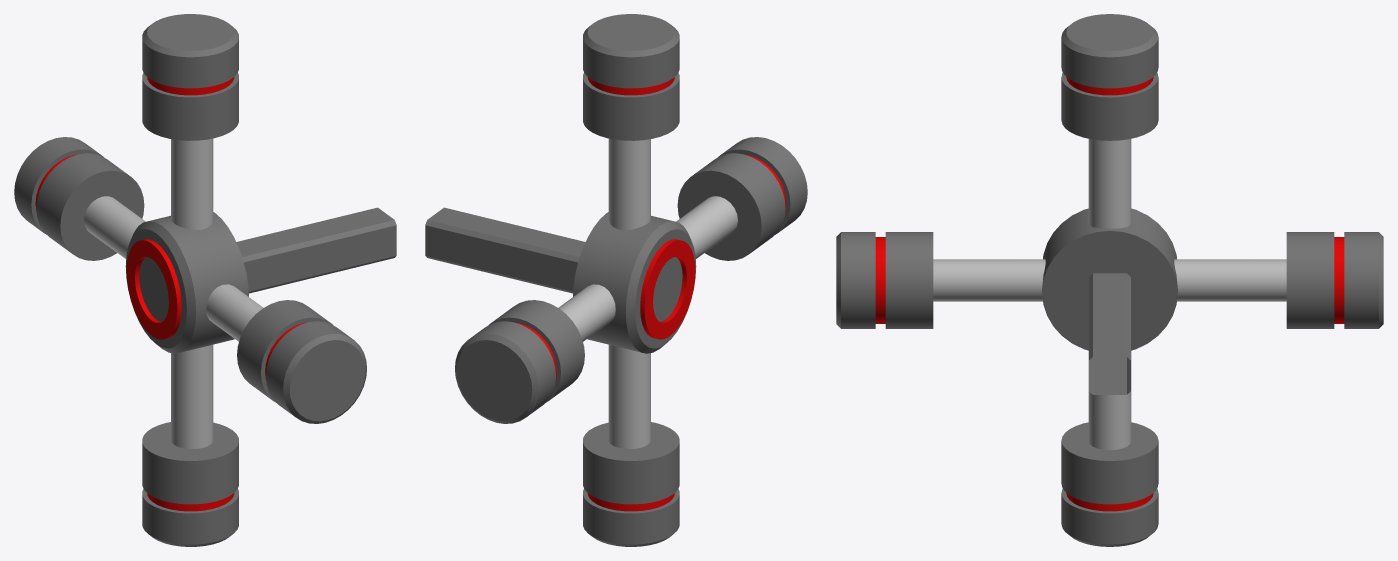
The model's file is Spinner.fbx.
3 renders of one model, left to right at view 1: azimuth 30°, elevation 25°; view 2: azimuth 150°, elevation 25°; view 3: azimuth 270°, elevation 25°, orthographic.
Parts seen in each view (by area): view 1: Spinner; view 2: Spinner; view 3: Spinner.
Part boxes in pixels (<box>): Spinner: <box>14,14,396,546</box>; Spinner: <box>425,14,807,546</box>; Spinner: <box>836,14,1383,546</box>.
Size of the model in its own units: 162 by 322 by 322.
